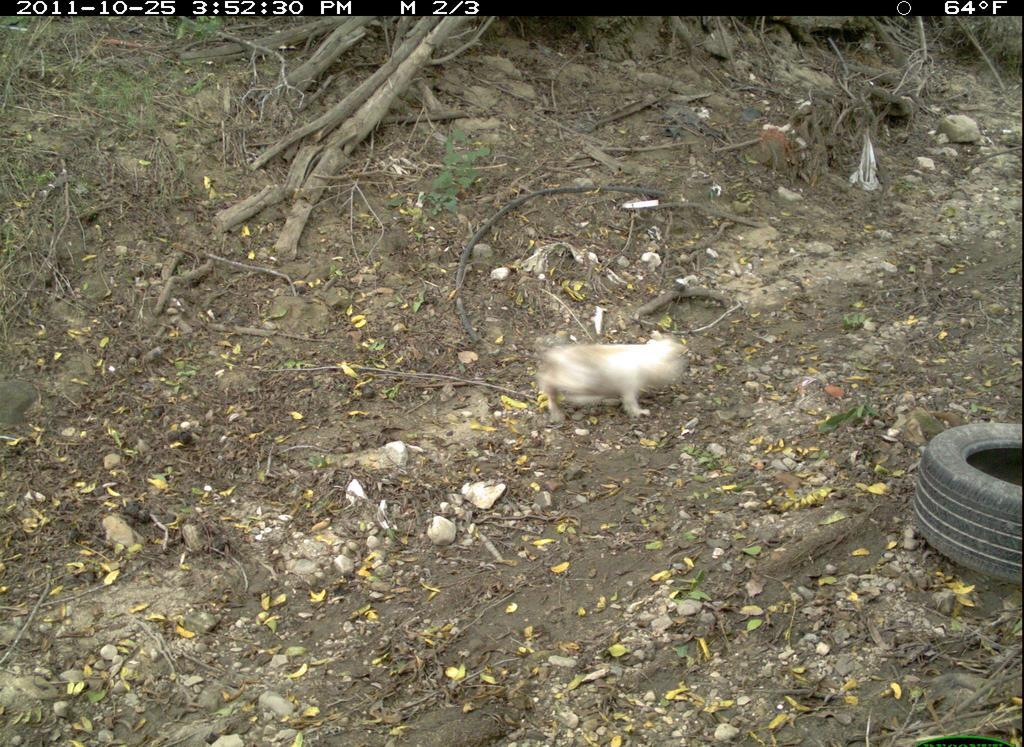dog: (533, 326, 694, 441)
